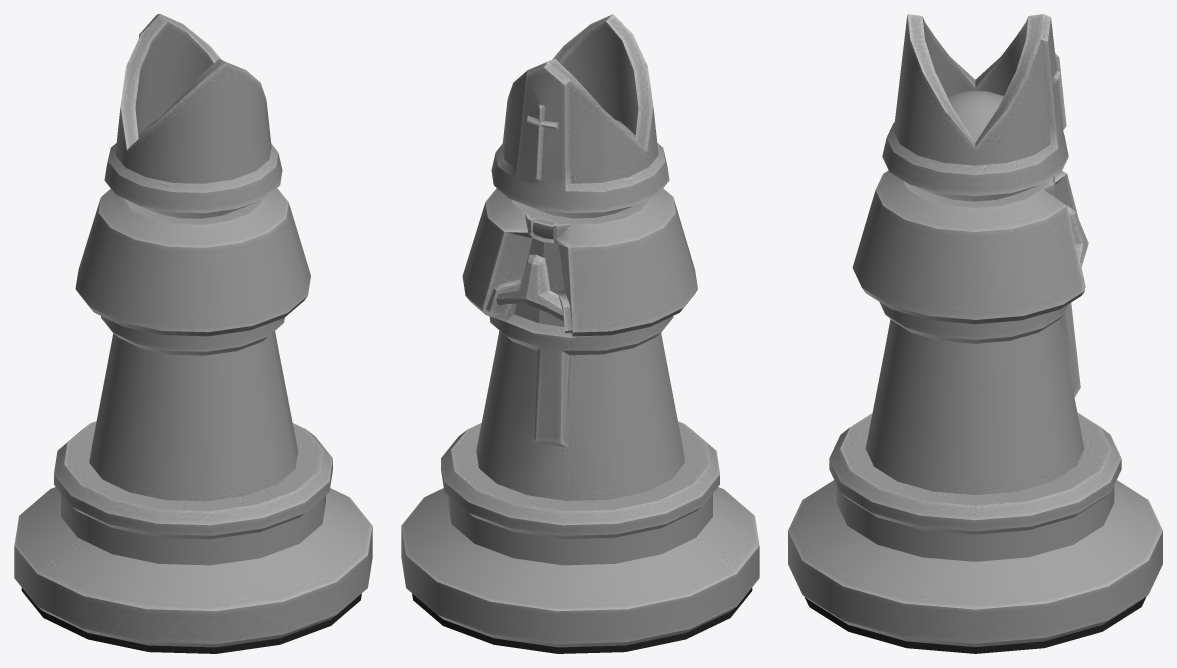
3 views of the same model, side by side, from view 1: azimuth 30°, elevation 25°; view 2: azimuth 150°, elevation 25°; view 3: azimuth 270°, elevation 25° (orthographic). The views are drawn at different scales.
Parts seen in each view (by area): view 1: Object_46.001; view 2: Object_46.001; view 3: Object_46.001.
Part boxes in pixels (box(x1,y1,x2,y2)): Object_46.001: box(14, 14, 372, 653); Object_46.001: box(401, 14, 759, 653); Object_46.001: box(788, 14, 1162, 653).
Bounding box in the file's own units: 1 × 1.66 × 1.
1 material, 1 textured.
